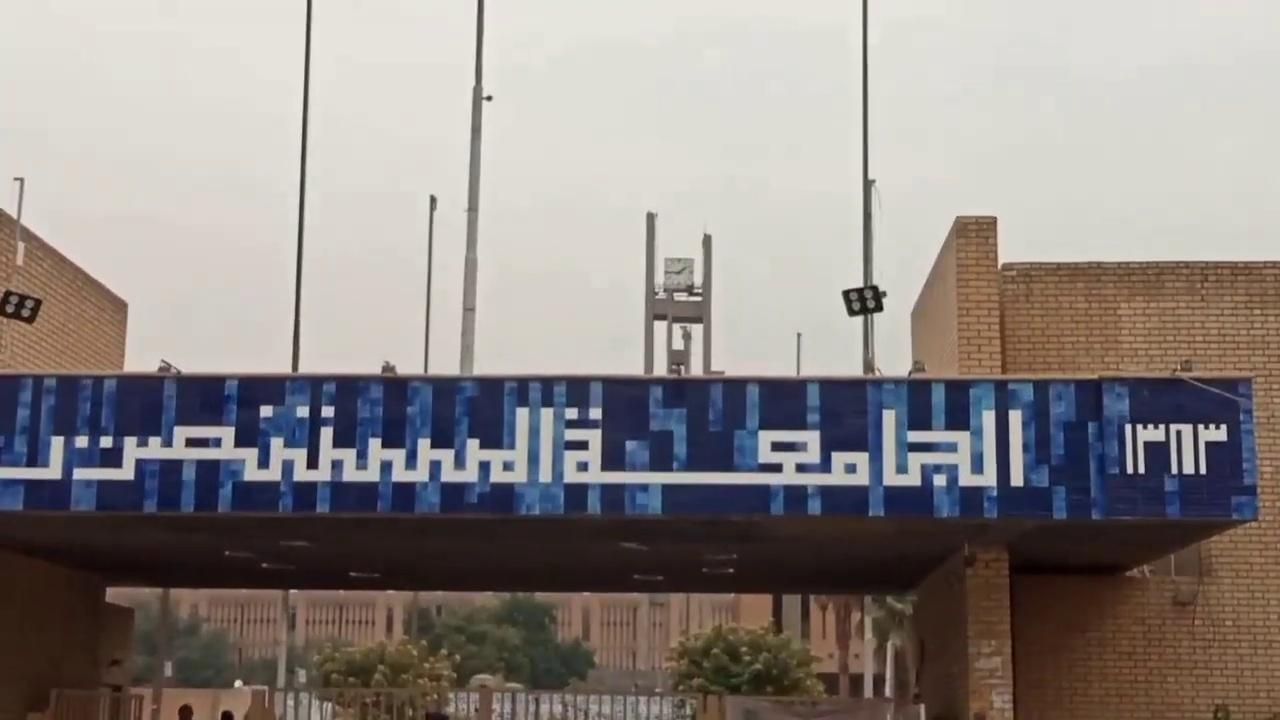person: (177, 703, 193, 719), (220, 709, 234, 719)
tree: (409, 592, 596, 692), (662, 619, 826, 699), (310, 634, 458, 718), (126, 592, 235, 689)
